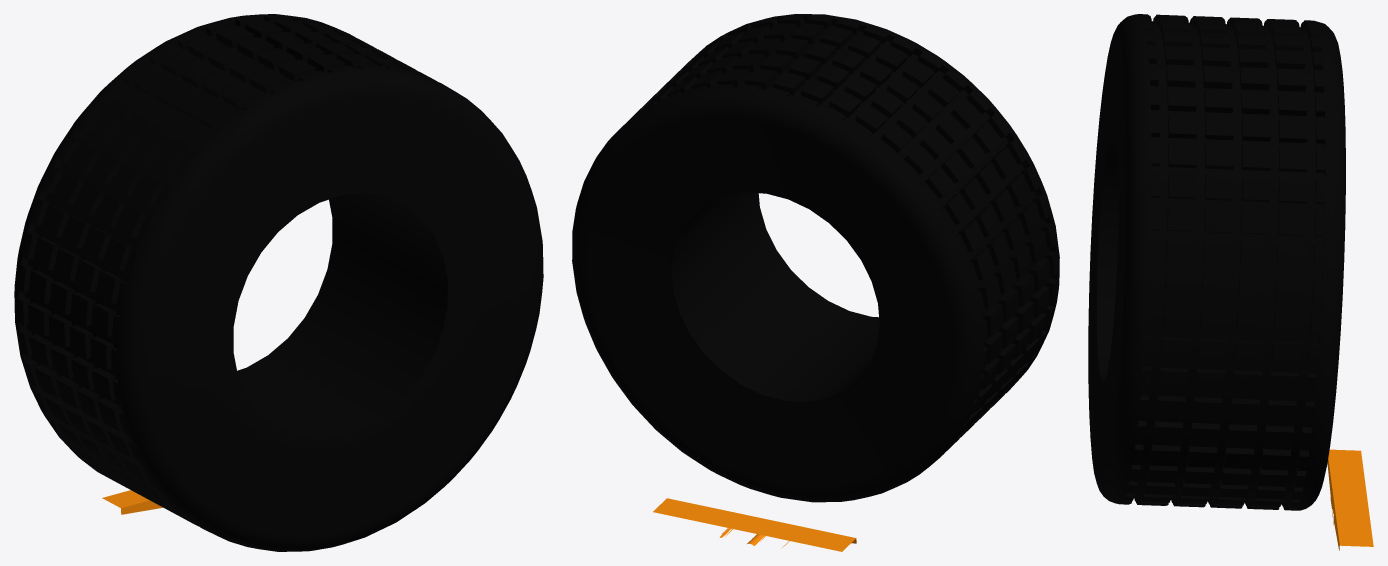
The model's file is vehicle_wheel_rear_left.obj.
3 views of the same model, side by side, from view 1: azimuth 30°, elevation 25°; view 2: azimuth 150°, elevation 25°; view 3: azimuth 270°, elevation 25° (orthographic). The views are drawn at different scales.
Size of the model in its own units: 0.1118 by 0.119 by 0.064.
